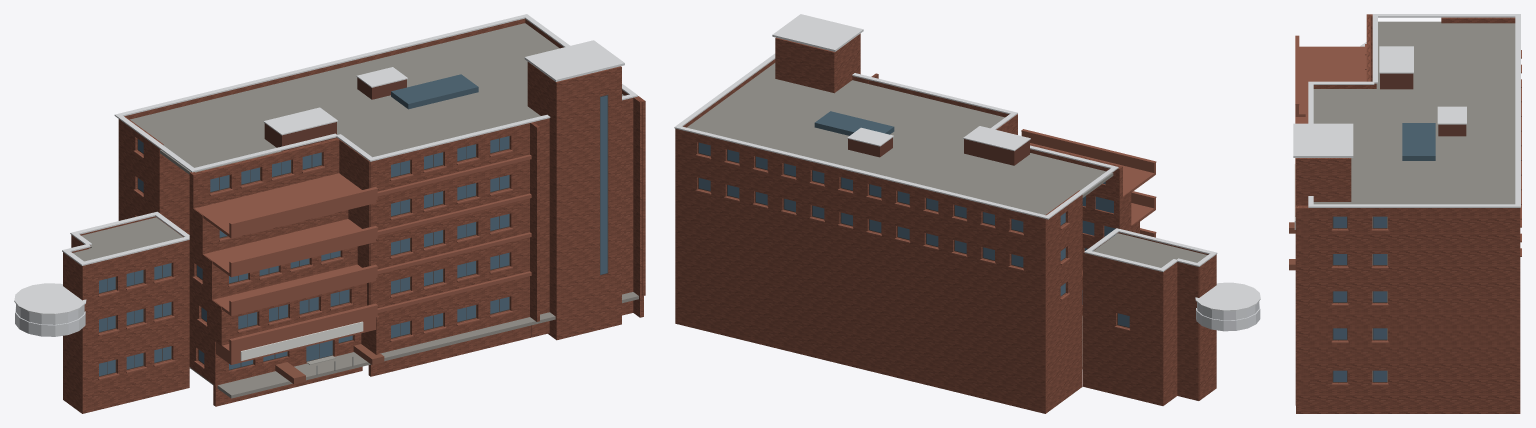
3 views of the same model, side by side, from view 1: azimuth 30°, elevation 25°; view 2: azimuth 150°, elevation 25°; view 3: azimuth 270°, elevation 25° (orthographic). The views are drawn at different scales.
Parts seen in each view (by area): view 1: s02__brick-wall, s02__roof, s02__brick-band, s02__trim, s02__glass, s02__floor-slab, s02__frame, s02__teal-frame, s02__brick-plain-wall, s02__white-drum, s02__sign-band, s02__planter-brick; view 2: s02__brick-wall, s02__roof, s02__trim, s02__glass, s02__brick-band, s02__brick-plain-wall, s02__white-drum, s02__teal-frame, s02__frame; view 3: s02__brick-wall, s02__roof, s02__trim, s02__brick-band, s02__glass, s02__teal-frame, s02__brick-plain-wall, s02__frame.
Boxes of the visible parts, x1,y1,x2,y2 form: s02__brick-wall: (63, 18, 645, 413); s02__roof: (73, 23, 624, 261); s02__brick-band: (98, 150, 531, 380); s02__trim: (14, 14, 637, 314); s02__glass: (99, 94, 607, 376); s02__floor-slab: (189, 292, 638, 398); s02__frame: (99, 95, 608, 376); s02__teal-frame: (391, 74, 478, 109); s02__brick-plain-wall: (264, 77, 406, 151); s02__white-drum: (15, 304, 85, 336); s02__sign-band: (240, 321, 363, 360); s02__planter-brick: (275, 344, 384, 384); s02__brick-wall: (675, 33, 1216, 413); s02__roof: (687, 63, 1207, 267); s02__trim: (674, 14, 1260, 311); s02__glass: (699, 142, 1129, 327); s02__brick-band: (695, 129, 1156, 330); s02__brick-plain-wall: (848, 137, 1029, 165); s02__white-drum: (1196, 301, 1260, 331); s02__teal-frame: (814, 111, 894, 135); s02__frame: (698, 142, 1129, 327); s02__brick-wall: (1295, 14, 1520, 413); s02__roof: (1313, 21, 1515, 204); s02__trim: (1293, 14, 1520, 207); s02__brick-band: (1295, 35, 1521, 385); s02__glass: (1333, 216, 1386, 381); s02__teal-frame: (1402, 123, 1435, 160); s02__brick-plain-wall: (1380, 73, 1466, 136); s02__frame: (1332, 216, 1387, 382).
Size of the model in its own units: 57.36 by 24.9 by 20.98.
15 materials, 1 textured.
